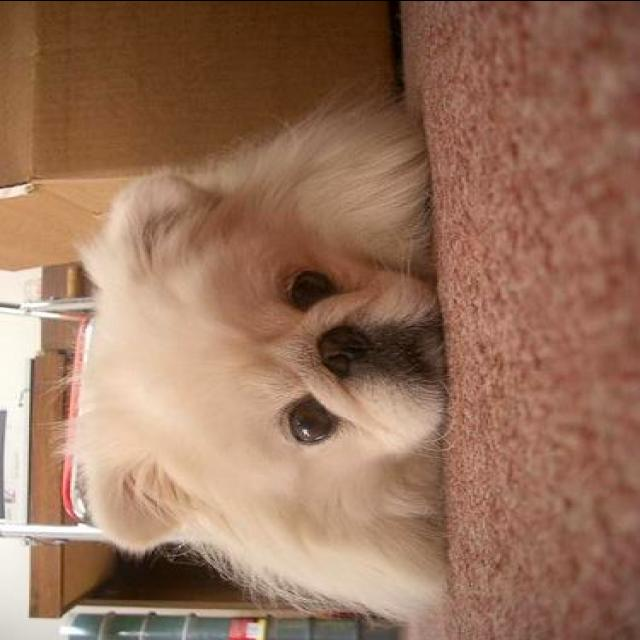pekinese: (65, 108, 457, 614)
